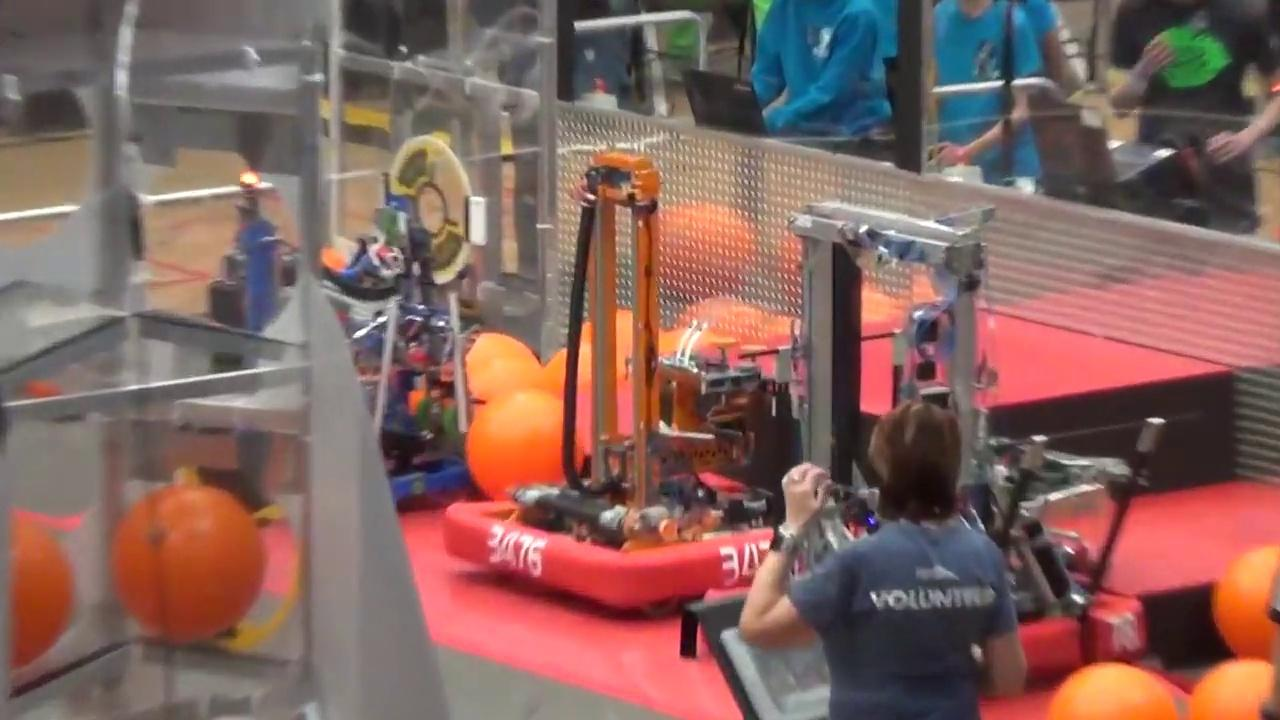robot: (441, 143, 777, 609), (919, 239, 1150, 681)
